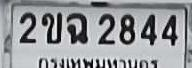2: (97, 12, 114, 44), (19, 10, 35, 42)
4: (140, 12, 156, 44), (161, 14, 177, 44)
8: (119, 12, 134, 44)
A02: (41, 11, 61, 42)
A09: (66, 11, 87, 42)
BKK: (35, 55, 160, 68)
